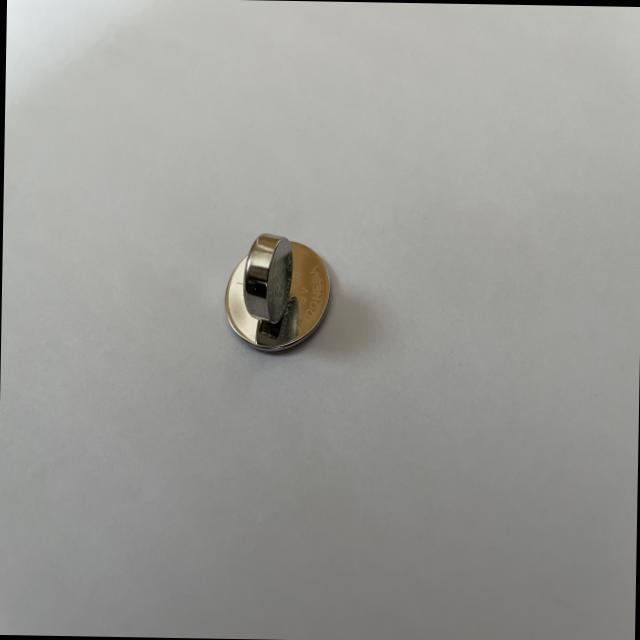COIN: (222, 233, 330, 351), (241, 231, 293, 322)
